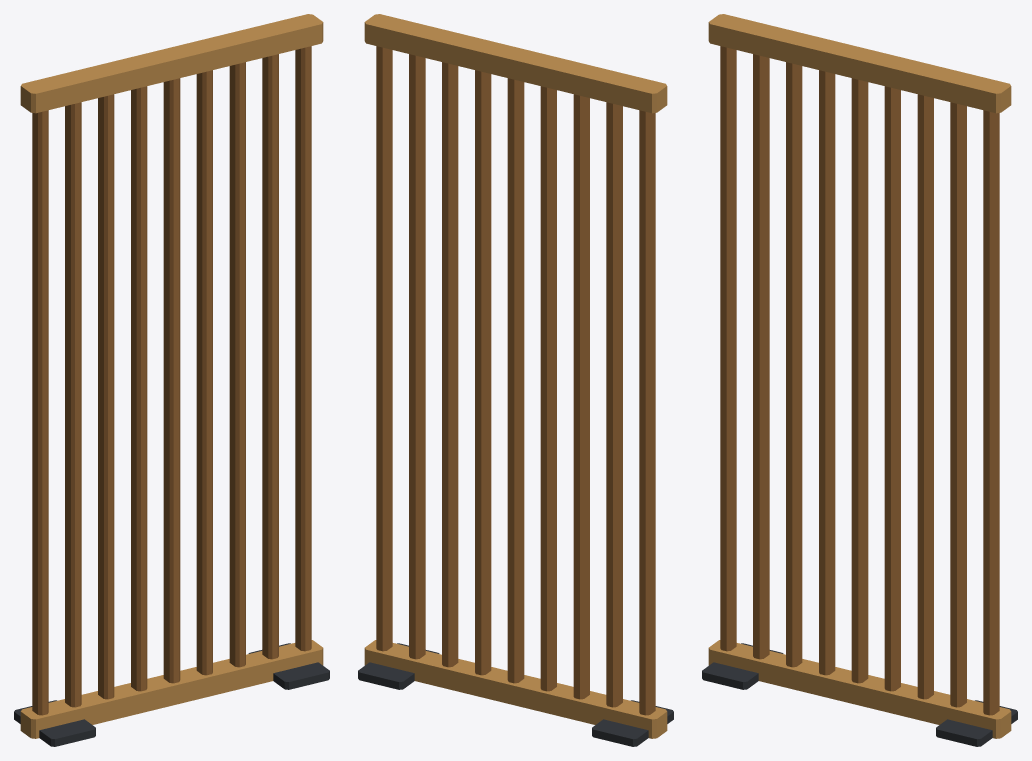
The model's file is SM_LPI_Open_Divider_01.fbx.
3 views of the same model, side by side, from view 1: azimuth 30°, elevation 25°; view 2: azimuth 150°, elevation 25°; view 3: azimuth 330°, elevation 25° (orthographic).
Parts seen in each view (by area): view 1: SM_LPI_Open_Divider_01; view 2: SM_LPI_Open_Divider_01; view 3: SM_LPI_Open_Divider_01.
Part boxes in pixels (bbox=[...]): SM_LPI_Open_Divider_01: bbox=[14, 14, 329, 746]; SM_LPI_Open_Divider_01: bbox=[358, 14, 673, 746]; SM_LPI_Open_Divider_01: bbox=[702, 14, 1017, 746].
Size of the model in its own units: 1.1 by 2.32 by 0.26.
